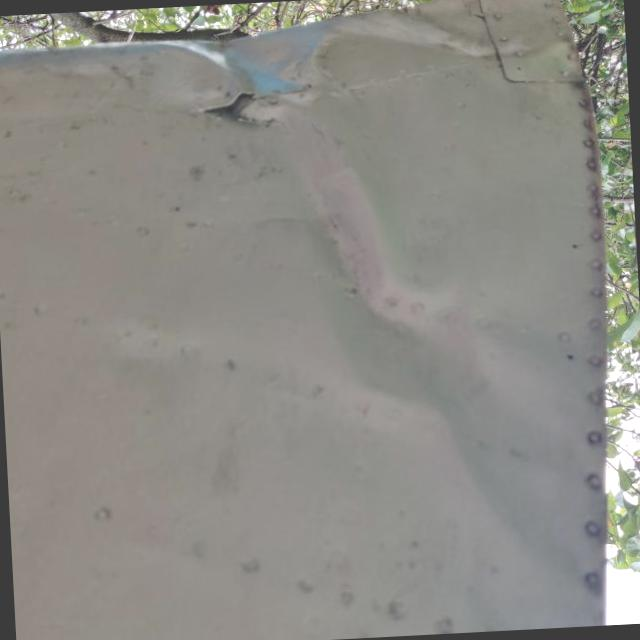crack: (230, 98, 285, 138)
dent: (260, 108, 622, 613), (83, 7, 355, 149), (342, 0, 563, 80)
